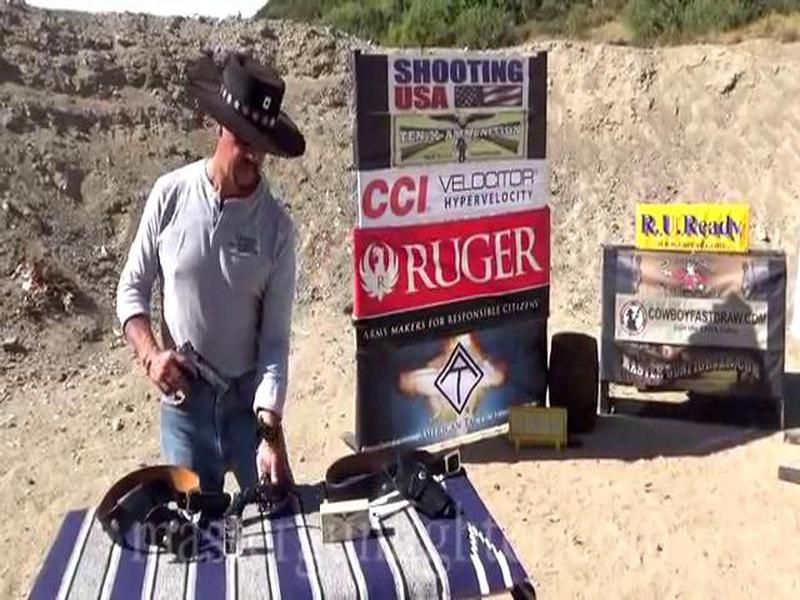Pistola: (152, 328, 233, 409)
